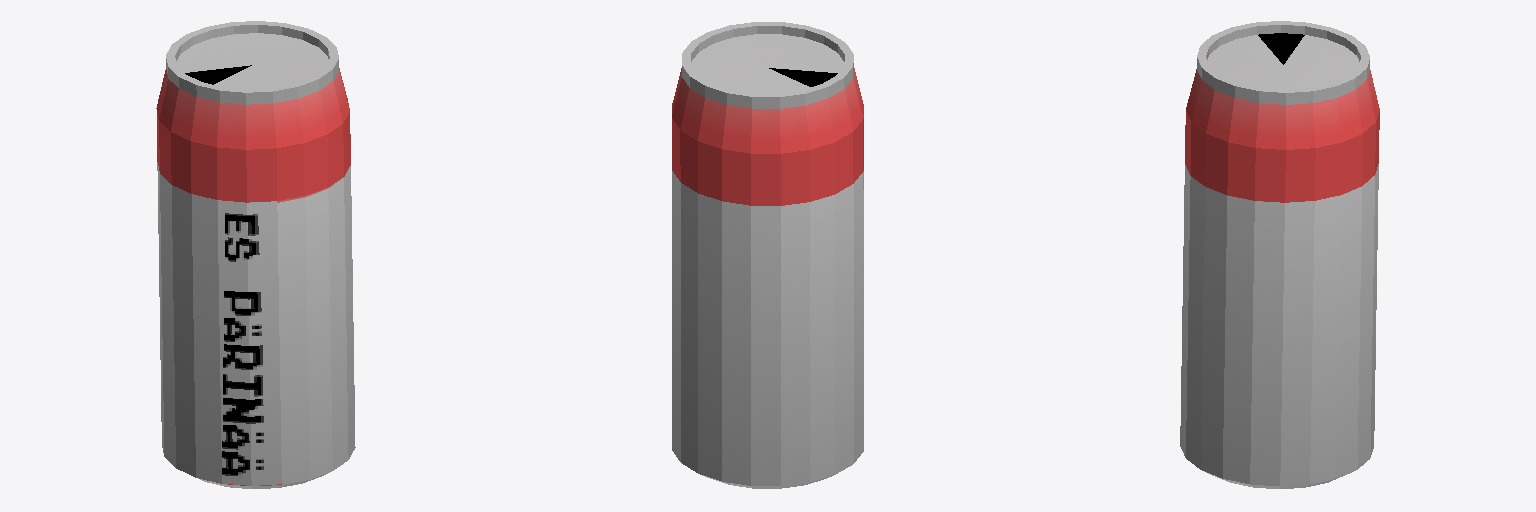
3 views of the same model, side by side, from view 1: azimuth 30°, elevation 25°; view 2: azimuth 150°, elevation 25°; view 3: azimuth 270°, elevation 25° (orthographic).
Parts seen in each view (by area): view 1: energycan_Cylinder.001; view 2: energycan_Cylinder.001; view 3: energycan_Cylinder.001.
Boxes of the visible parts, x1=… form: energycan_Cylinder.001: x1=156, y1=21, x2=355, y2=488; energycan_Cylinder.001: x1=672, y1=22, x2=863, y2=488; energycan_Cylinder.001: x1=1180, y1=21, x2=1379, y2=488.
Bounding box in the file's own units: 0.9971 × 2.23 × 1.01.
1 materials, 1 textured.